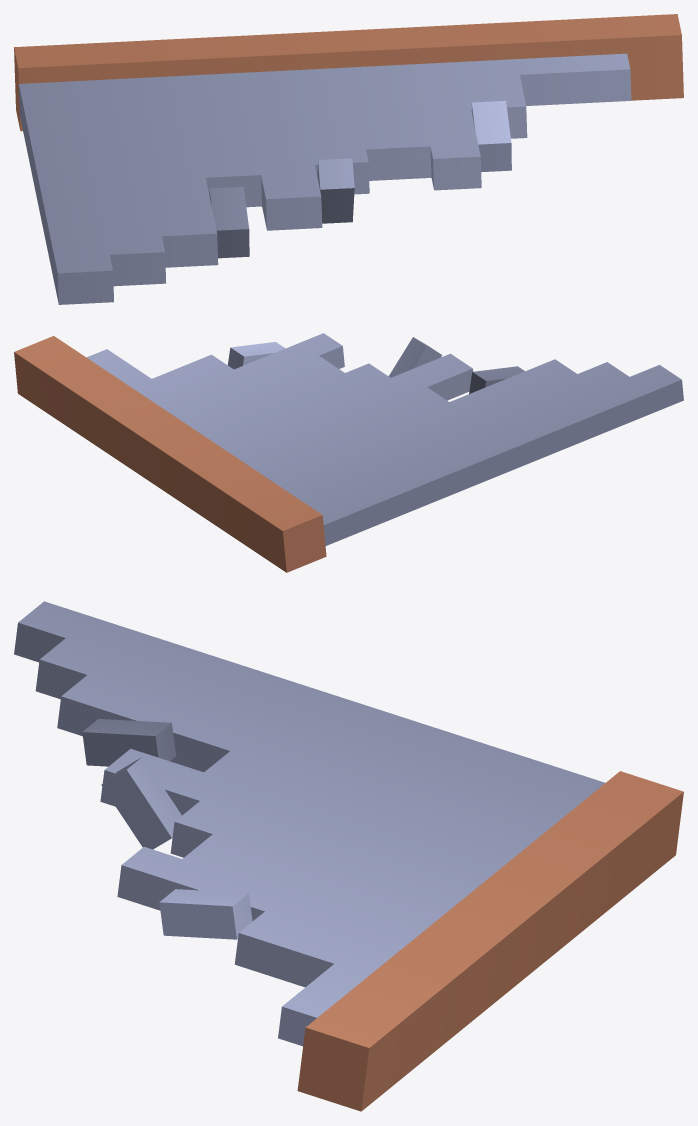
The model's file is wall-broken.001_lev1.glb.
3 renders of one model, top to bottom at view 1: azimuth 30°, elevation 25°; view 2: azimuth 150°, elevation 25°; view 3: azimuth 270°, elevation 25°, orthographic. The views are drawn at different scales.
Visible parts, largest first — view 1: wall-broken.001_lev1; view 2: wall-broken.001_lev1; view 3: wall-broken.001_lev1.
Boxes of the visible parts, x1=… form: wall-broken.001_lev1: x1=14, y1=14, x2=683, y2=304; wall-broken.001_lev1: x1=14, y1=333, x2=683, y2=572; wall-broken.001_lev1: x1=14, y1=601, x2=683, y2=1111.
Size of the model in its own units: 5.55 by 0.8174 by 3.88.
Materials: 1 (1 with a texture image).
